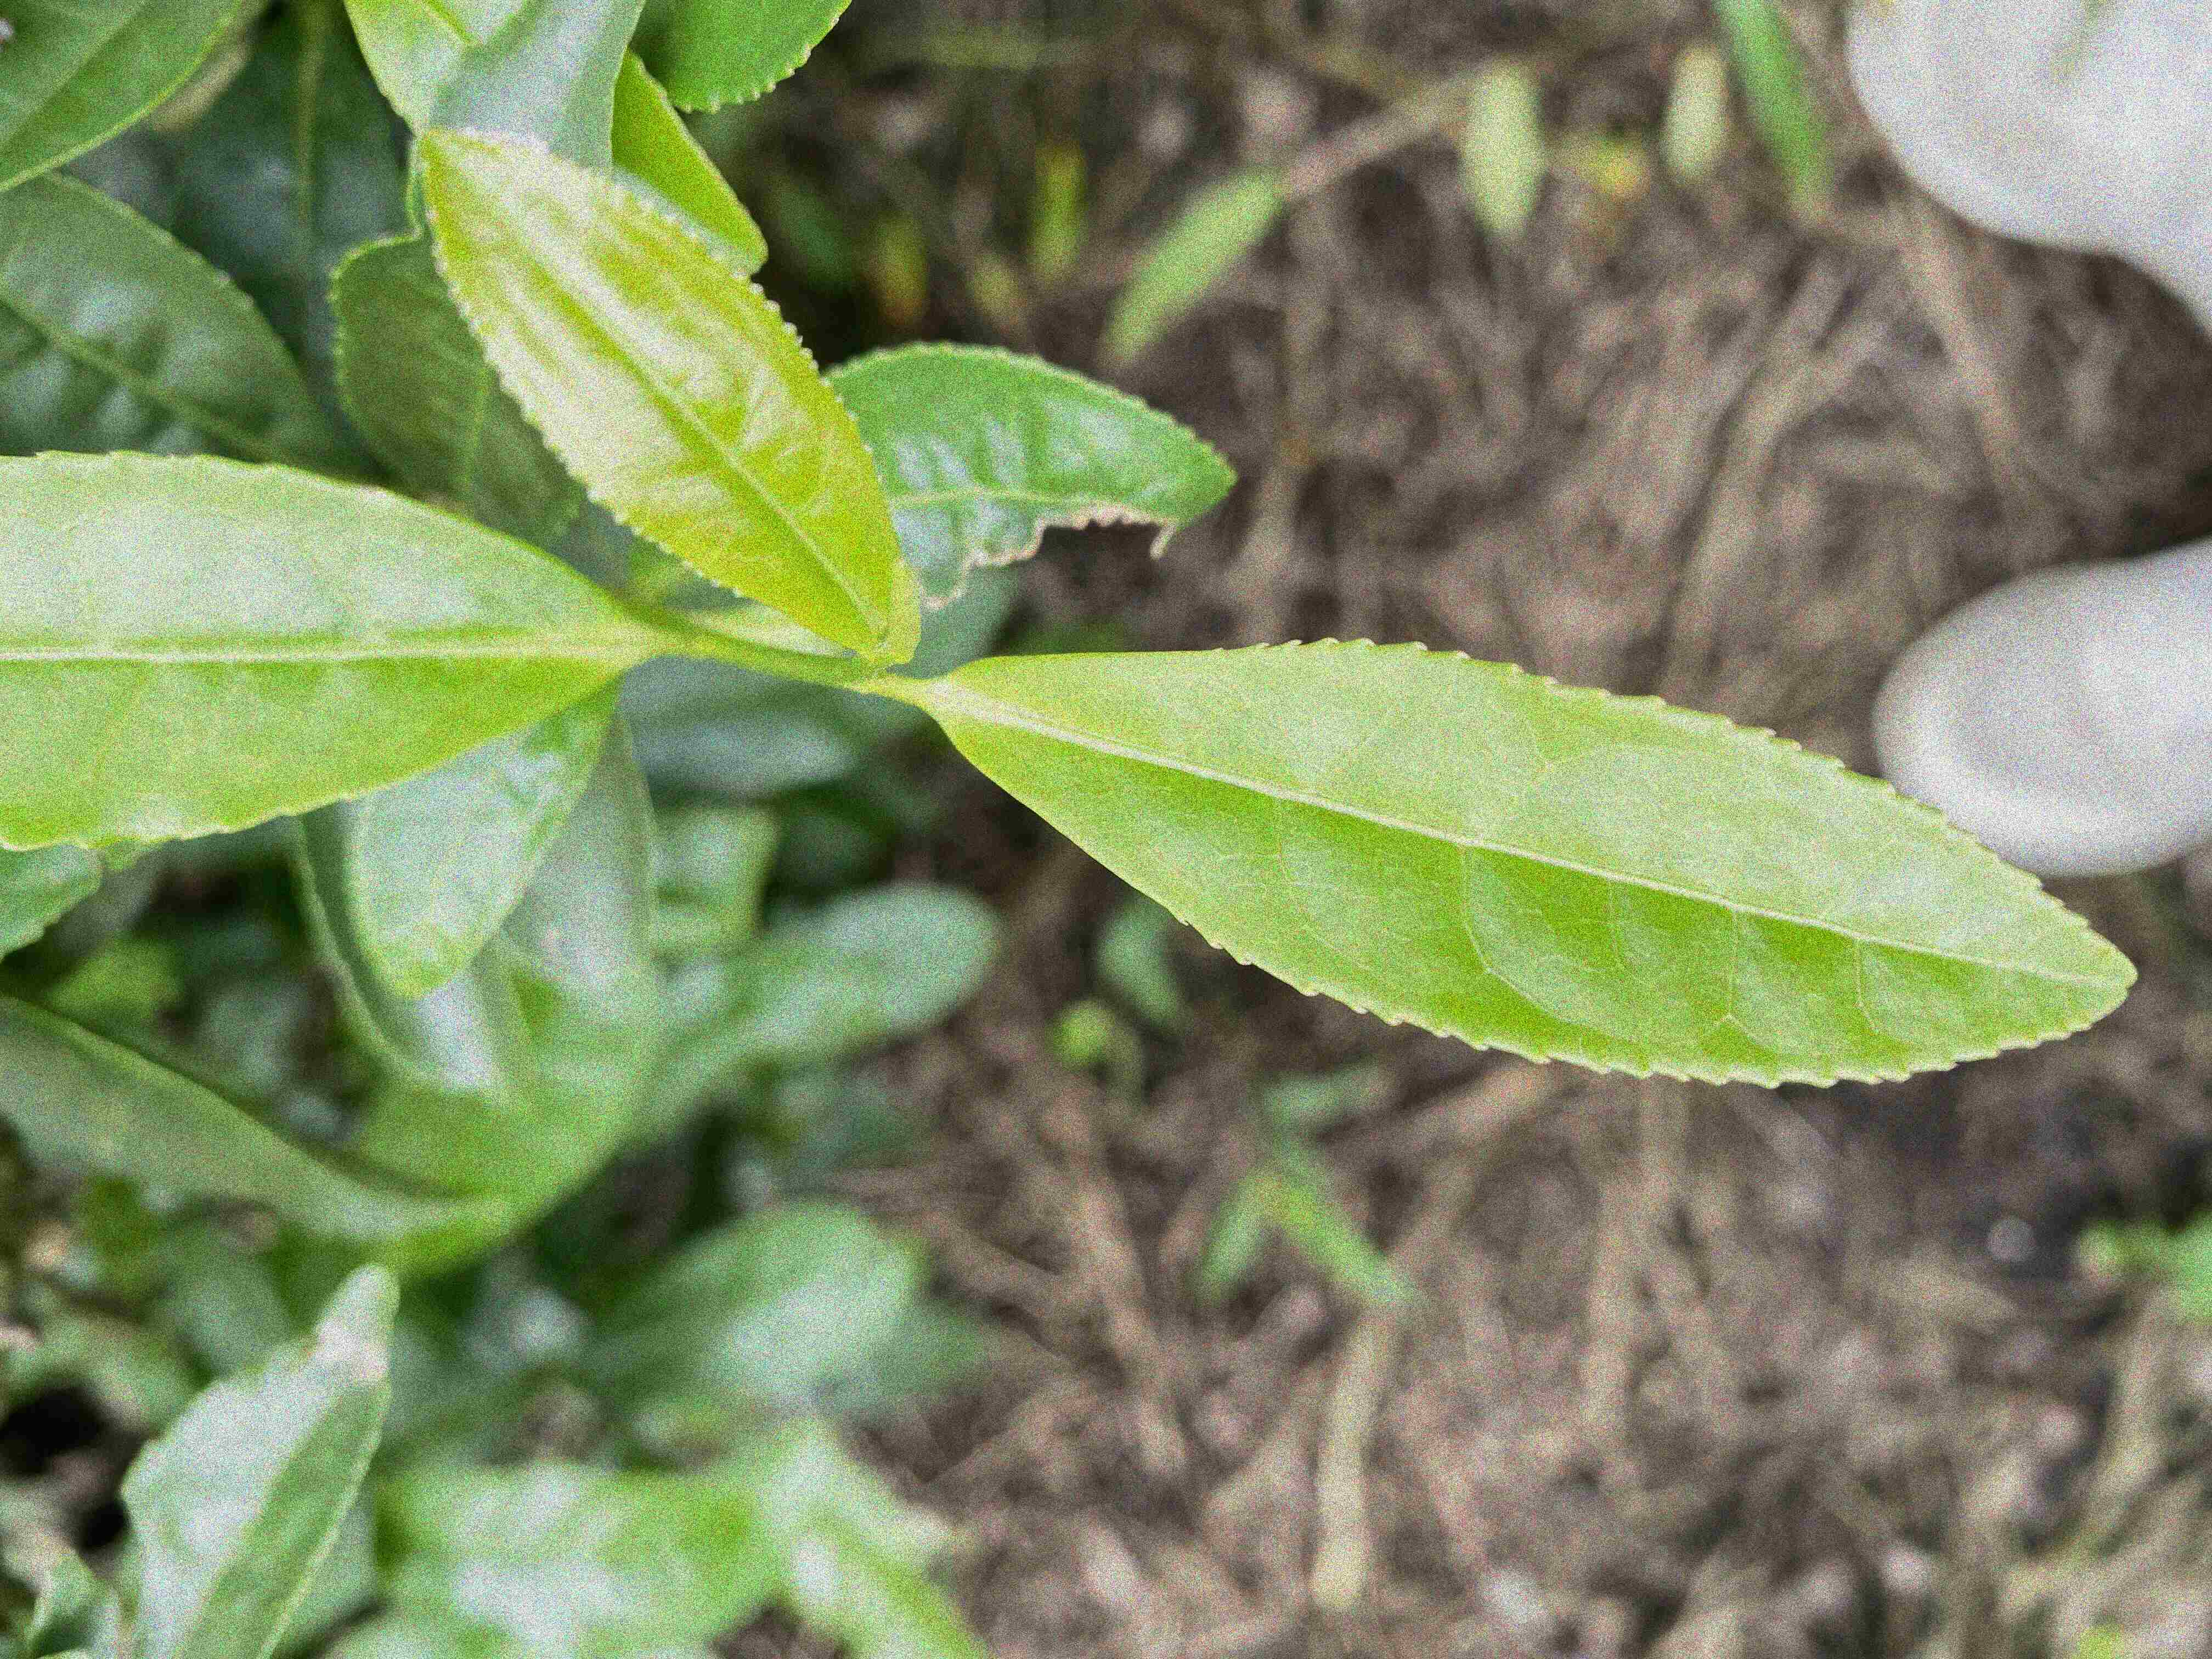chihuo_high: (822, 340, 1240, 612)
healthy: (932, 631, 2146, 1094), (0, 444, 636, 850), (421, 131, 897, 650)
